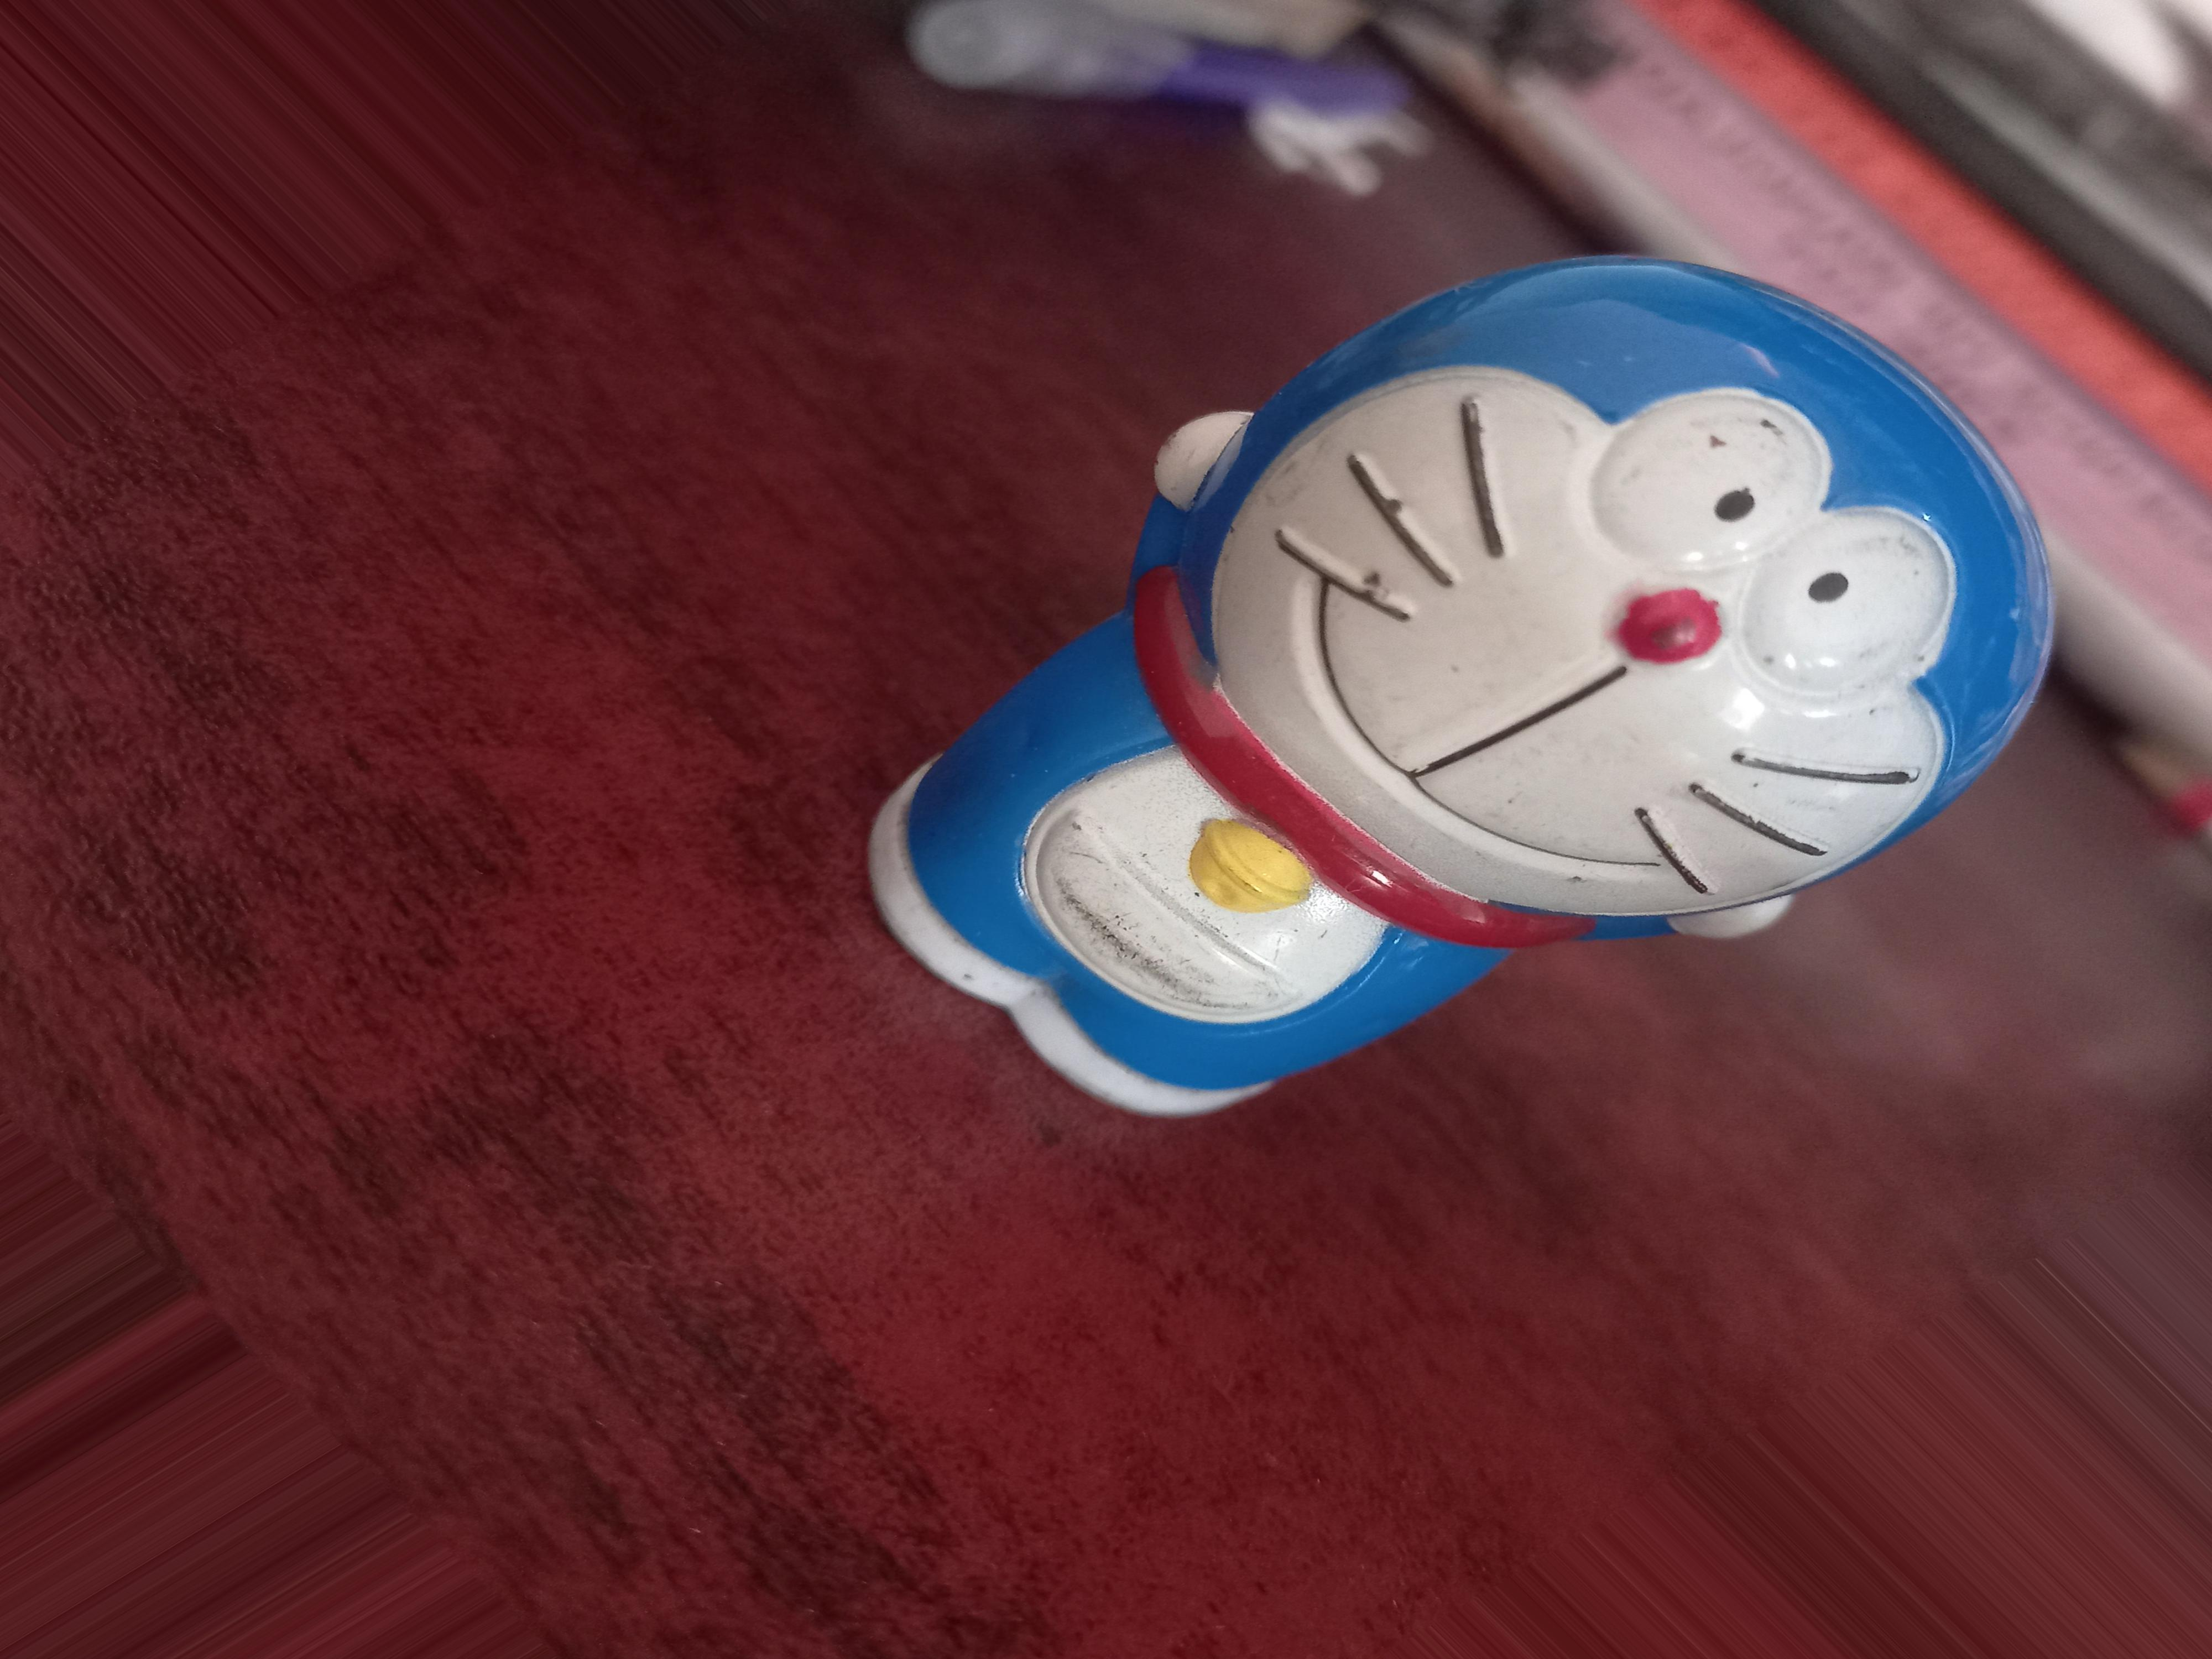doraemon: (960, 322, 2027, 1075)
